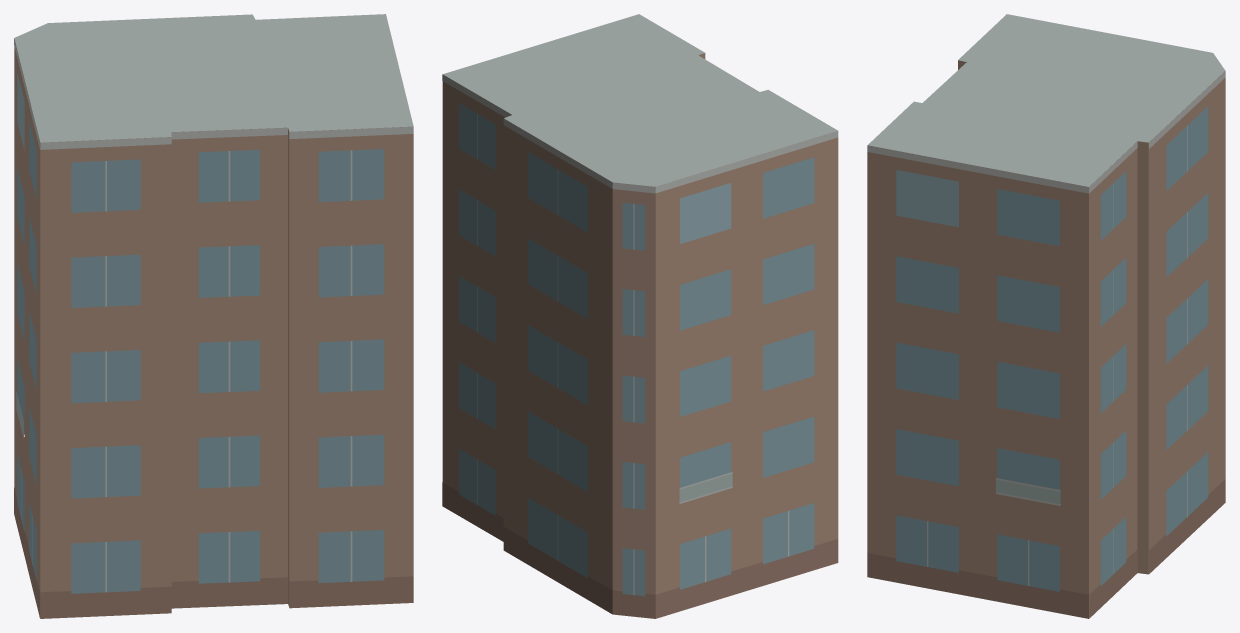
Rendered from survey-upis-33035751.glb.
3 views of the same model, side by side, from view 1: azimuth 30°, elevation 25°; view 2: azimuth 150°, elevation 25°; view 3: azimuth 270°, elevation 25° (orthographic). The views are drawn at different scales.
Visible parts, largest first — view 1: survey-upis-33035751.tmp; view 2: survey-upis-33035751.tmp; view 3: survey-upis-33035751.tmp.
Part boxes in pixels (bbox=[...]): survey-upis-33035751.tmp: bbox=[14, 14, 413, 618]; survey-upis-33035751.tmp: bbox=[442, 14, 838, 618]; survey-upis-33035751.tmp: bbox=[867, 14, 1225, 618].
Size of the model in its own units: 13.63 by 15.85 by 11.92.
